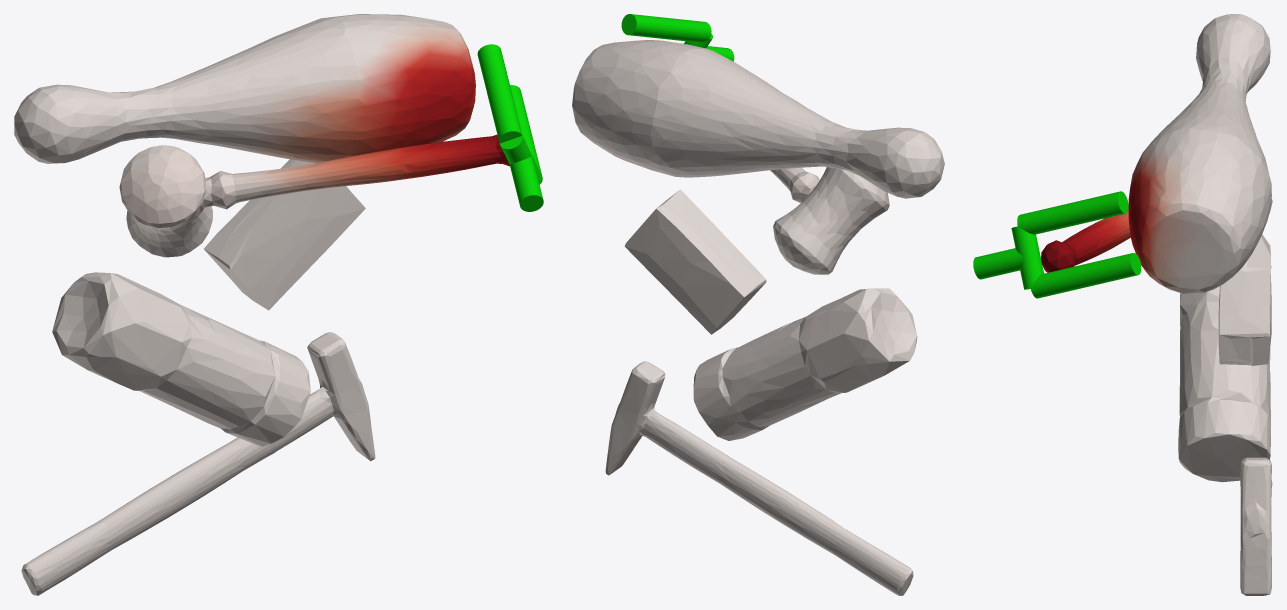
File: round_000_trial_001.obj
3 renders of one model, left to right at view 1: azimuth 30°, elevation 25°; view 2: azimuth 150°, elevation 25°; view 3: azimuth 270°, elevation 25°, orthographic. The views are drawn at different scales.
Parts seen in each view (by area): view 1: geometry_0, geometry_1; view 2: geometry_0, geometry_1; view 3: geometry_0, geometry_1.
Part boxes in pixels (x1=…): geometry_0: x1=14, y1=14, x2=509, y2=595; geometry_1: x1=477, y1=44, x2=543, y2=211; geometry_0: x1=572, y1=40, x2=944, y2=595; geometry_1: x1=621, y1=14, x2=734, y2=61; geometry_0: x1=1041, y1=14, x2=1272, y2=595; geometry_1: x1=973, y1=191, x2=1141, y2=298.
Size of the model in its own units: 0.2138 by 0.2405 by 0.131.
